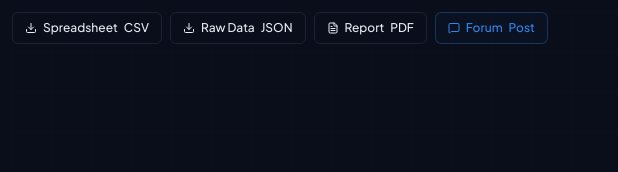
Test: ExportButtons error feedback › shows Downloaded on CSV button on success
Click the button "Spreadsheet CSV": (87, 28) [12, 12, 162, 44]
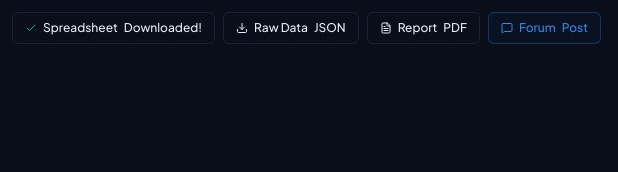
Expected: the button "Spreadsheet Downloaded!" is shown, [12, 12, 215, 44]
